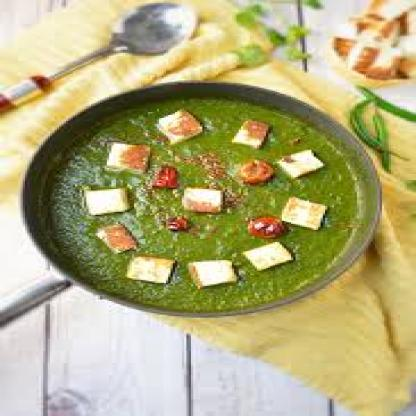palak_paneer: (42, 97, 362, 311)
